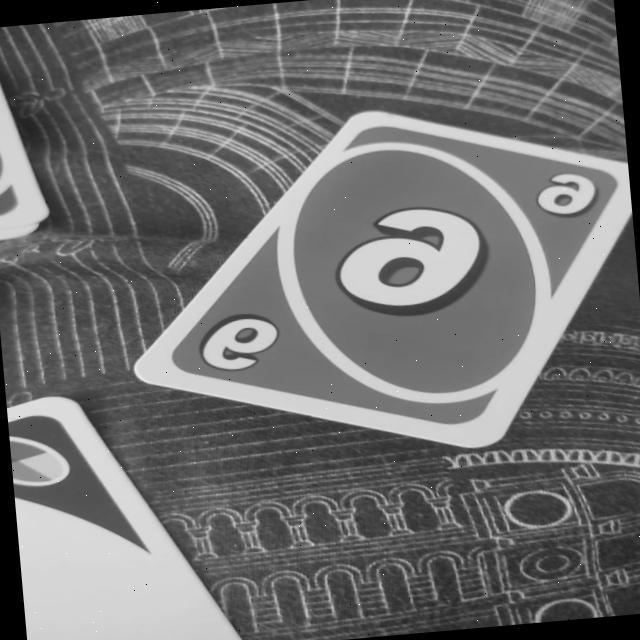wild_card: (6, 381, 212, 640)
